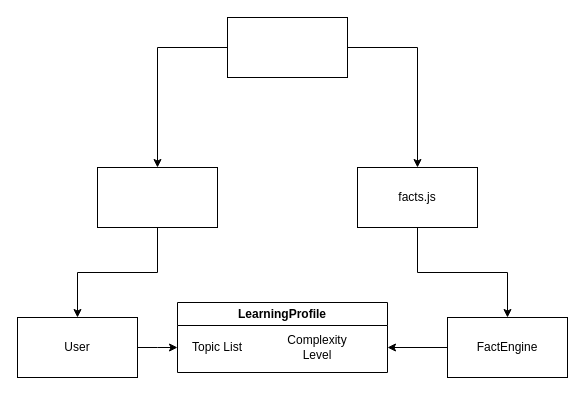
This 585x395 diagram has some shape labels left out. The shapes that lost their labels are listed below. From the top down, each one's centre as x and y in pixels, then its label:
At point 287,47: "App.js".
At point 157,197: "users.js".
